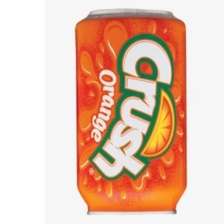can: (71, 6, 191, 219)
